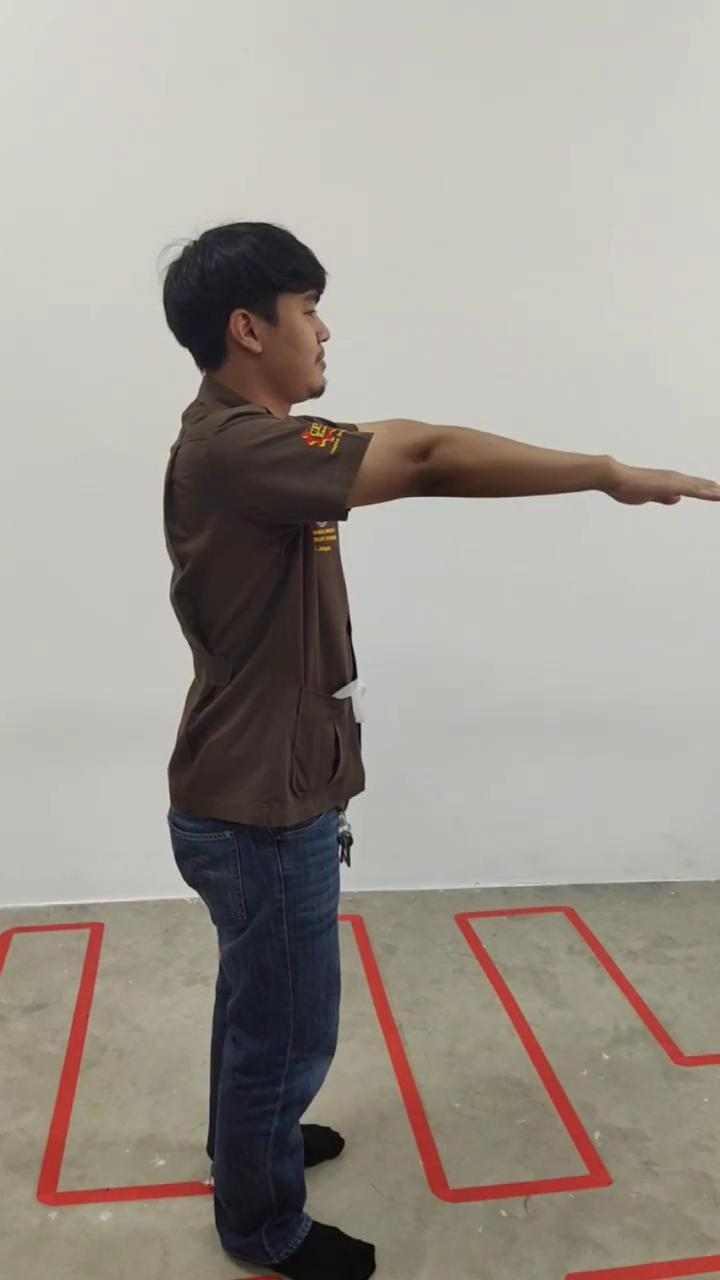squat up: (162, 222, 715, 1280)
